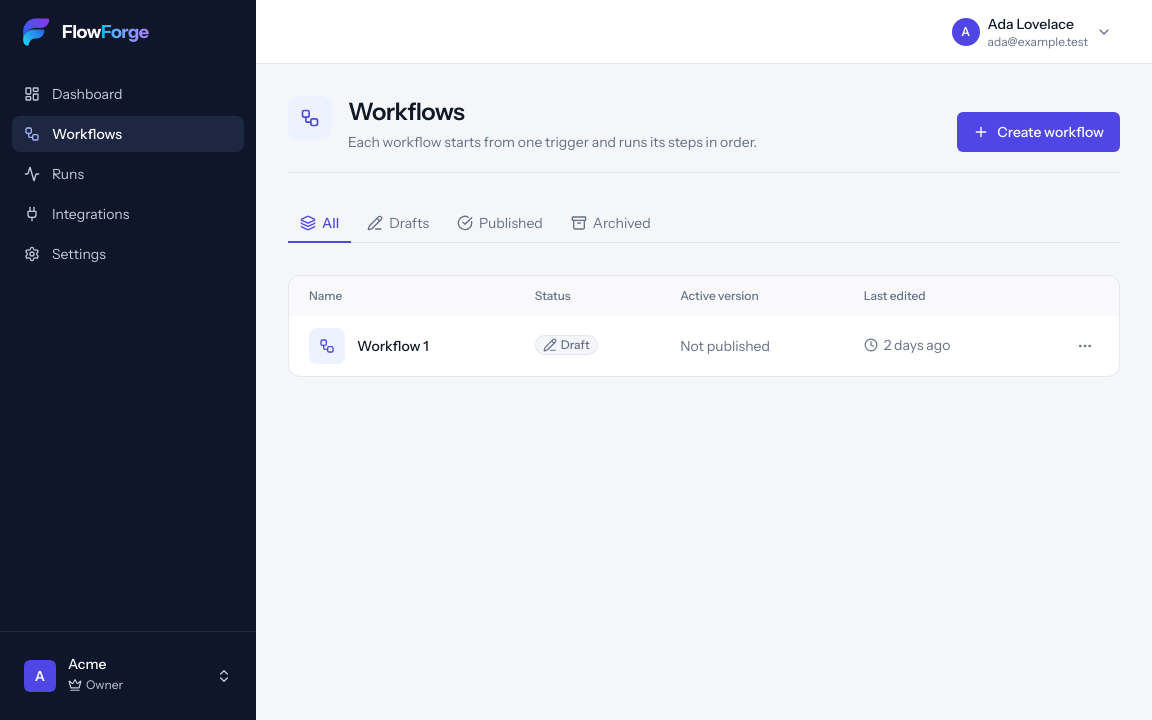
it: Workflows list (Part 04) › renames optimistically and rolls back if the server refuses (FR-04.6)
This screenshot has width=1152, height=720.
Click the button named "Actions for Workflow 1": (1085,346) [1071,332,1099,360]
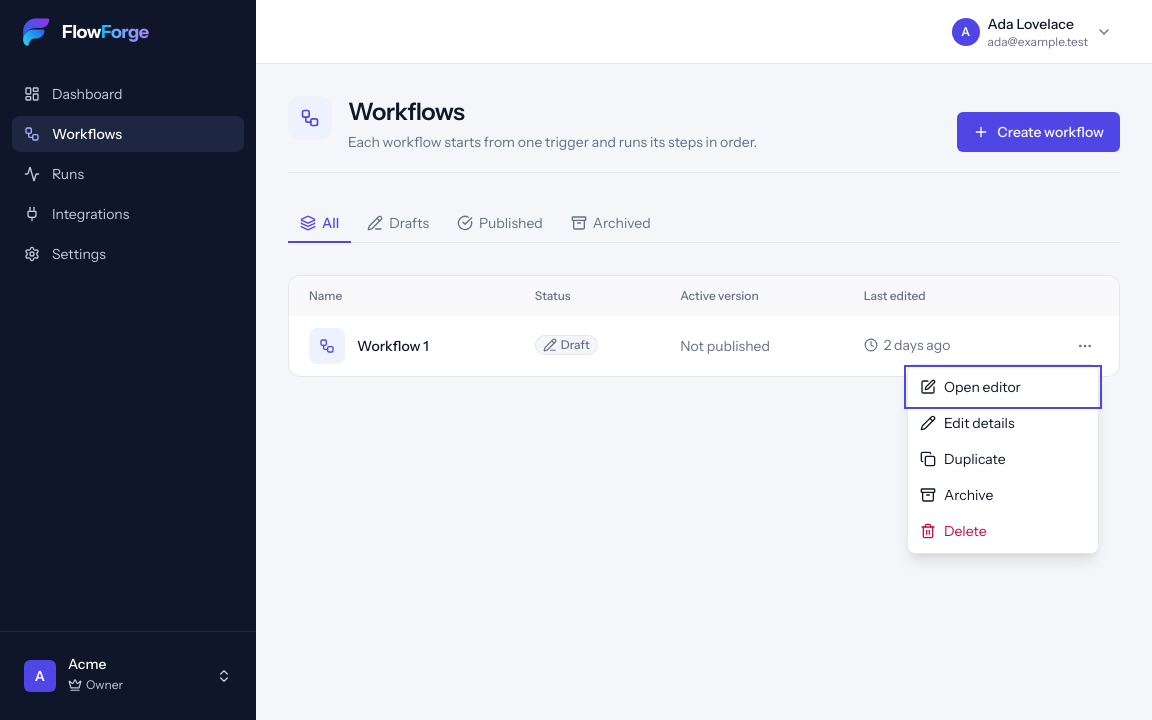
Click the menu item "Edit details": (1003,423) [908,405,1098,441]
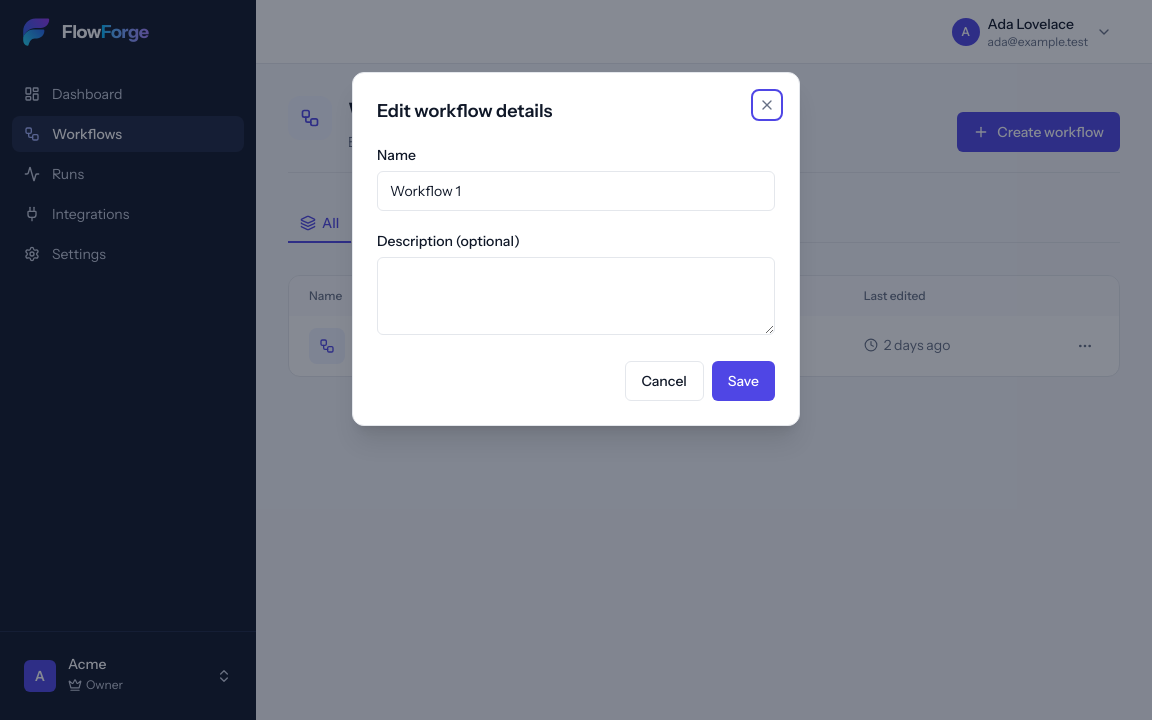
Replace the text in the field labelled "Name" with "Renamed": (576,191) [377,171,775,211]
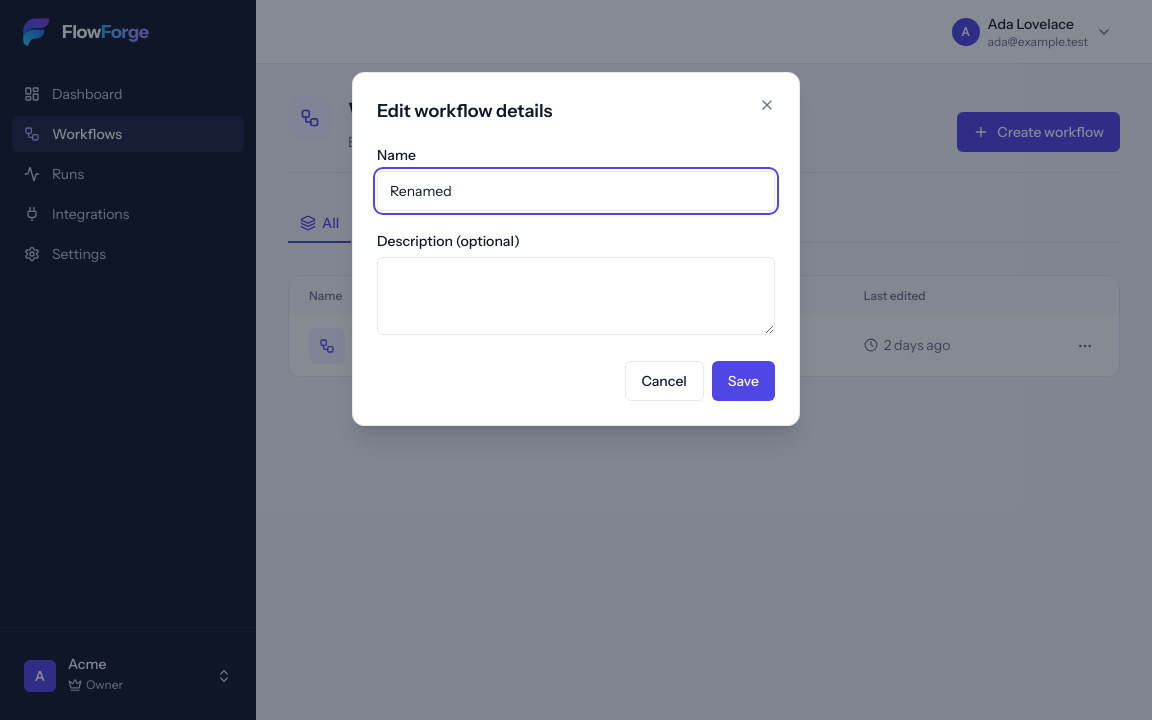
Click the button "Save": (743,381) [712,361,775,401]
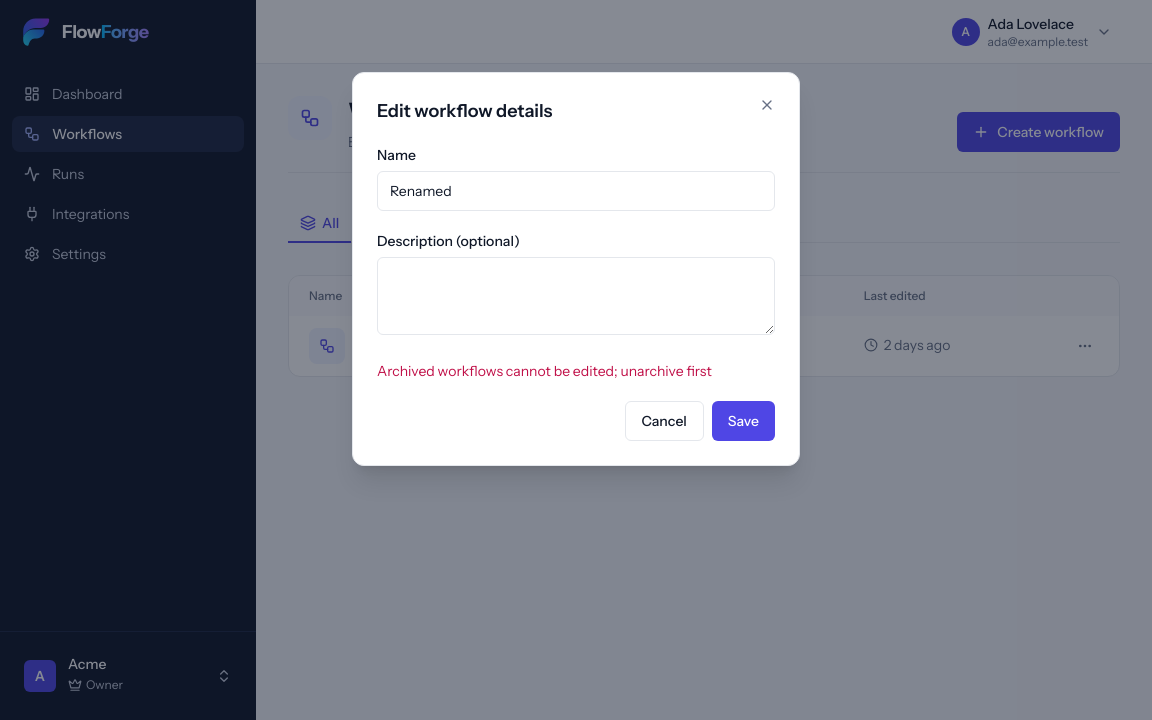
Expected: the text "Archived workflows cannot be edited; unarchive first" is shown, [377,362,712,380]
